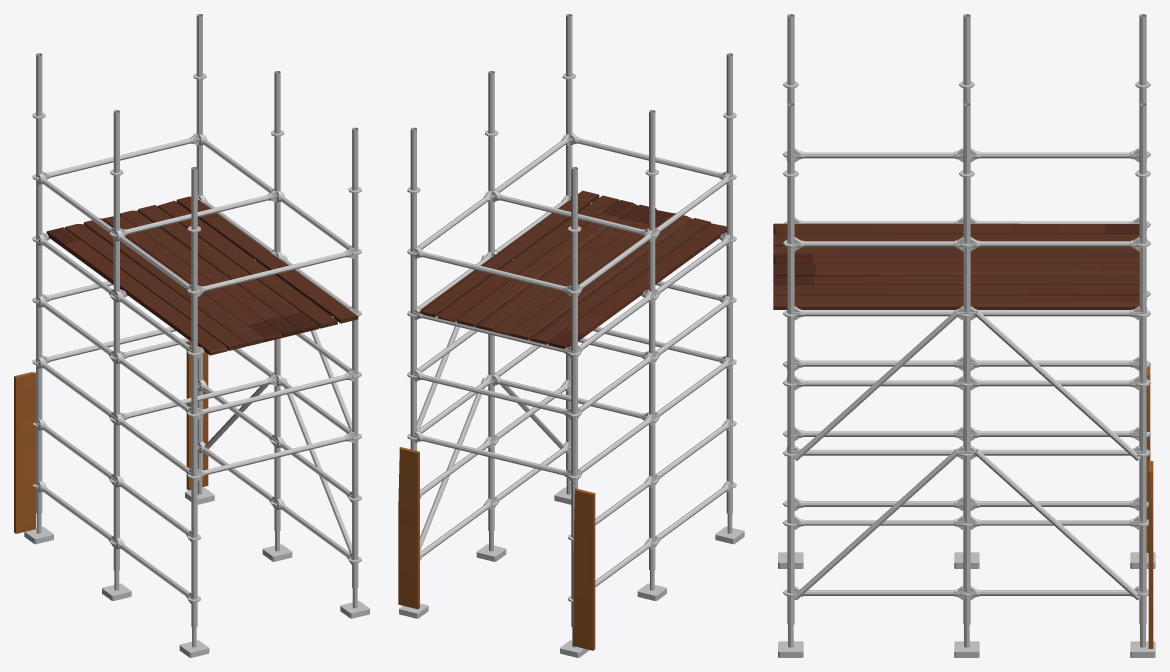
Rendered from City_Scaffolding00.fbx.
The picture shows the model from 3 angles, left to right: view 1: azimuth 30°, elevation 25°; view 2: azimuth 150°, elevation 25°; view 3: azimuth 270°, elevation 25°; orthographic projection. The views are drawn at different scales.
Parts seen in each view (by area): view 1: SM_City_Scaffolding_01.mo; view 2: SM_City_Scaffolding_01.mo; view 3: SM_City_Scaffolding_01.mo.
Boxes of the visible parts, left/top/right/bottom form: SM_City_Scaffolding_01.mo: left=14, top=14, right=369, bottom=657; SM_City_Scaffolding_01.mo: left=398, top=14, right=744, bottom=657; SM_City_Scaffolding_01.mo: left=773, top=14, right=1155, bottom=657.
Bounding box in the file's own units: 344 × 820 × 519.
